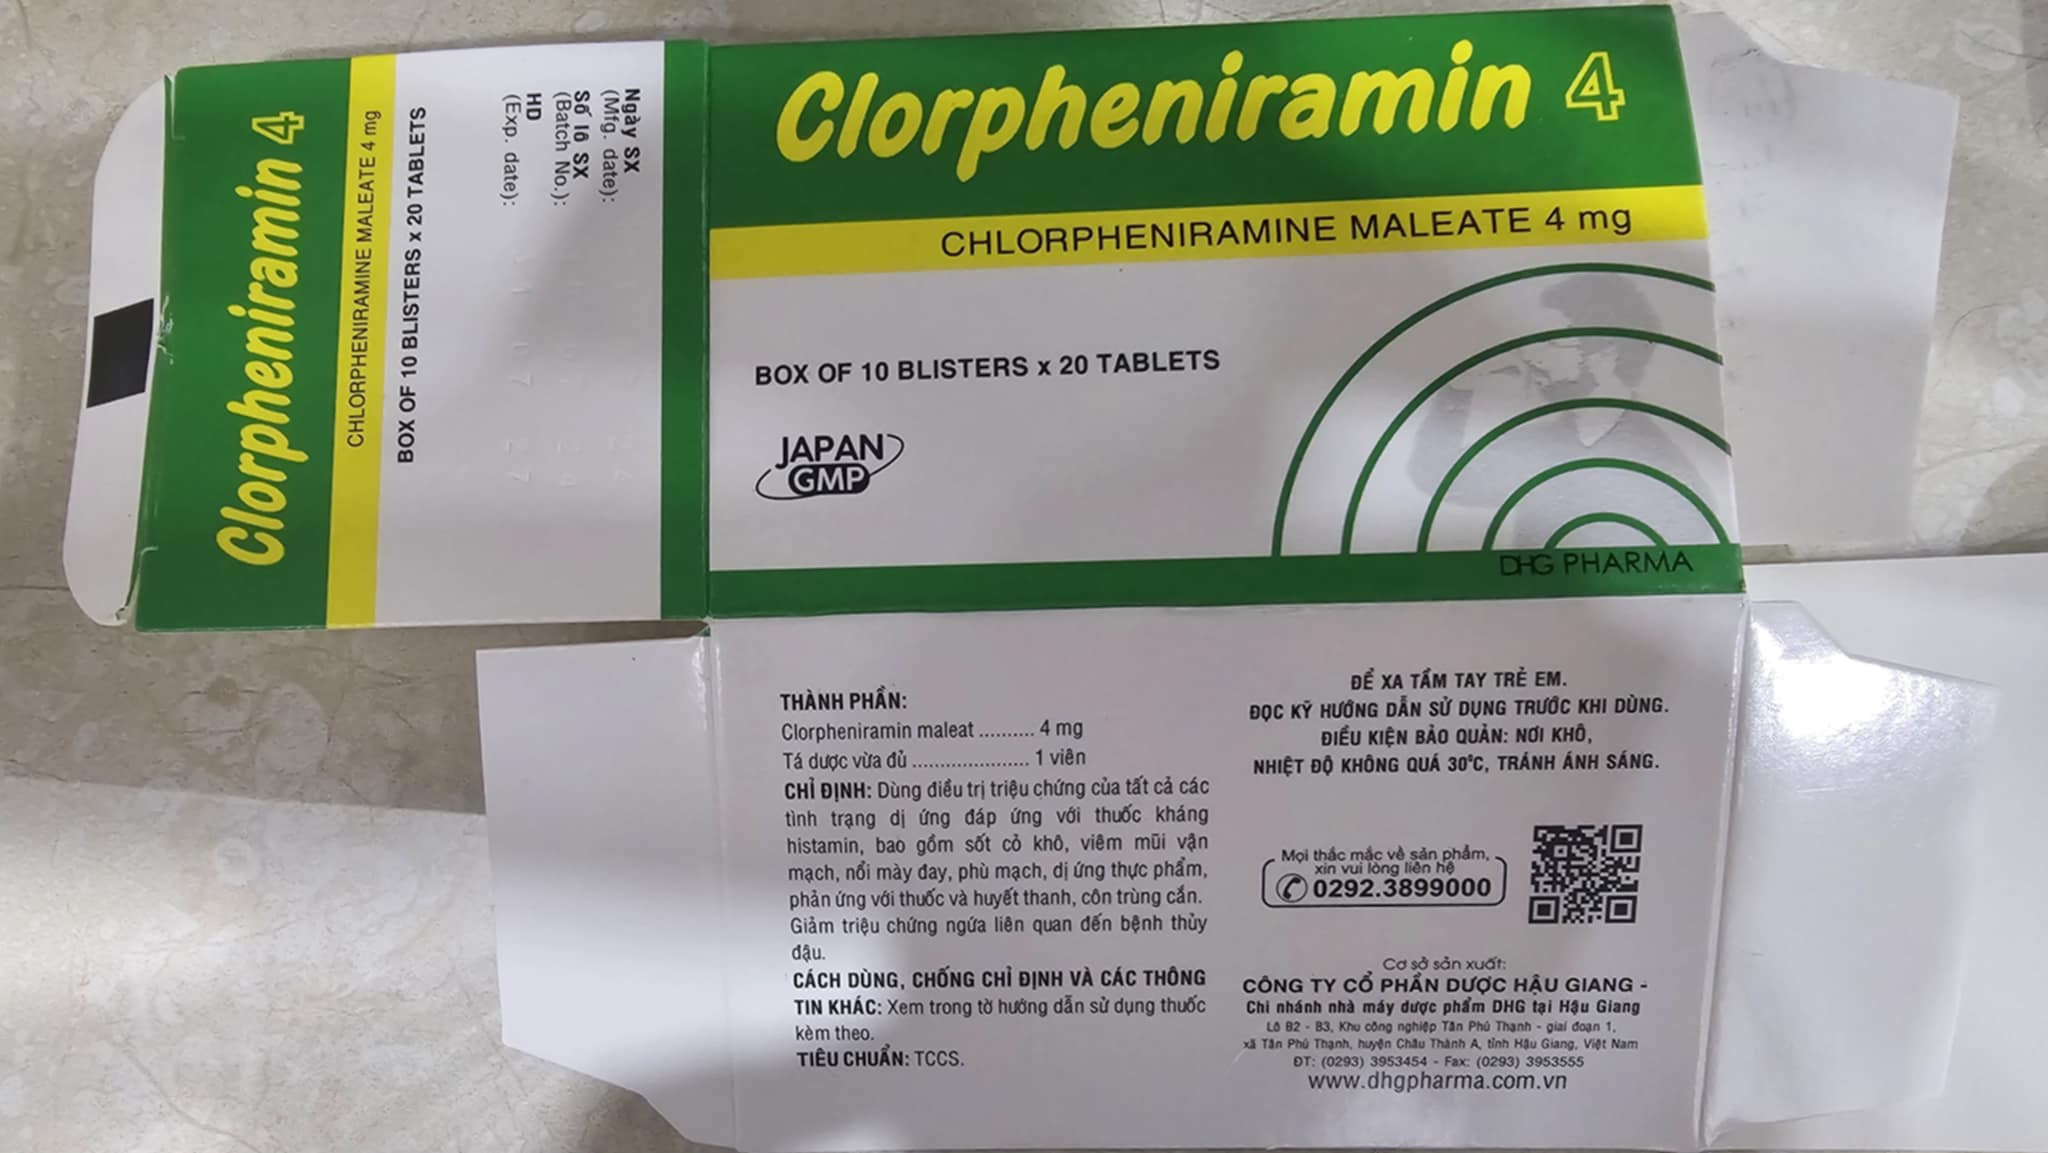Clorpheniramin: (717, 46, 1544, 163)
